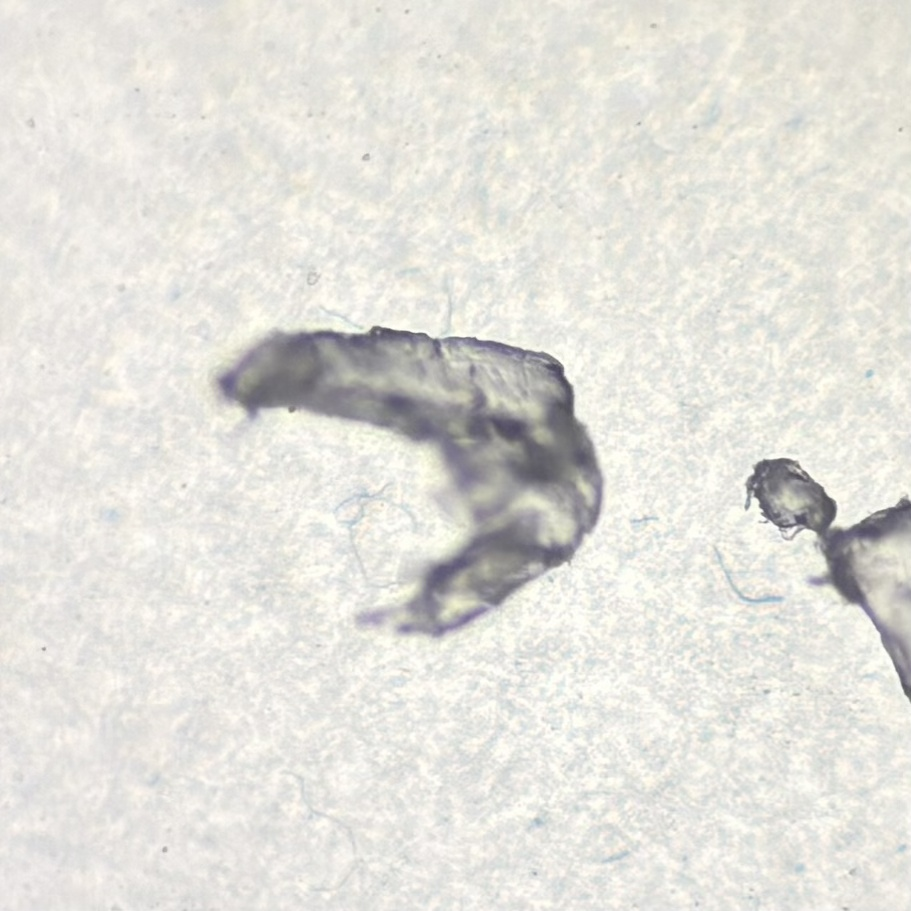microplastic: (214, 329, 603, 635), (742, 458, 911, 697)
